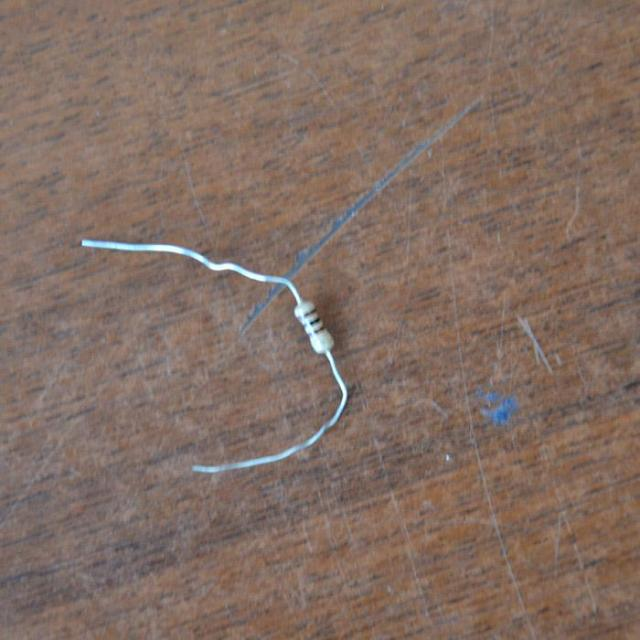Resistor: (290, 296, 340, 359)
black: (304, 319, 320, 327)
brown: (297, 309, 317, 320), (308, 327, 324, 336)
